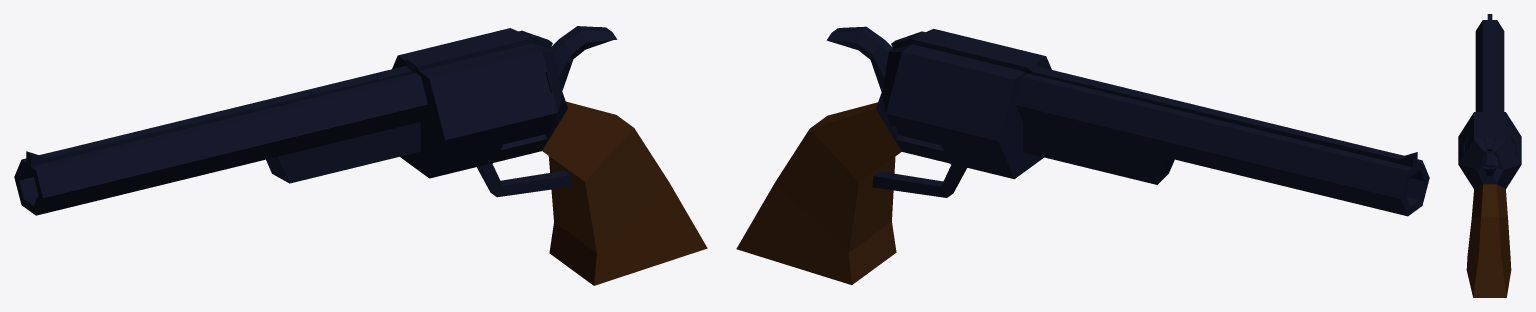
Rendered from revolver.fbx.
The picture shows the model from 3 angles, left to right: view 1: azimuth 30°, elevation 25°; view 2: azimuth 150°, elevation 25°; view 3: azimuth 270°, elevation 25°; orthographic projection. The views are drawn at different scales.
Parts seen in each view (by area): view 1: Cylinder; view 2: Cylinder; view 3: Cylinder.
Boxes of the visible parts, x1,y1,x2,y2 form: Cylinder: [14, 26, 707, 285]; Cylinder: [736, 26, 1429, 284]; Cylinder: [1458, 14, 1521, 297].
Bounding box in the file's own units: 2638 × 945 × 439.
